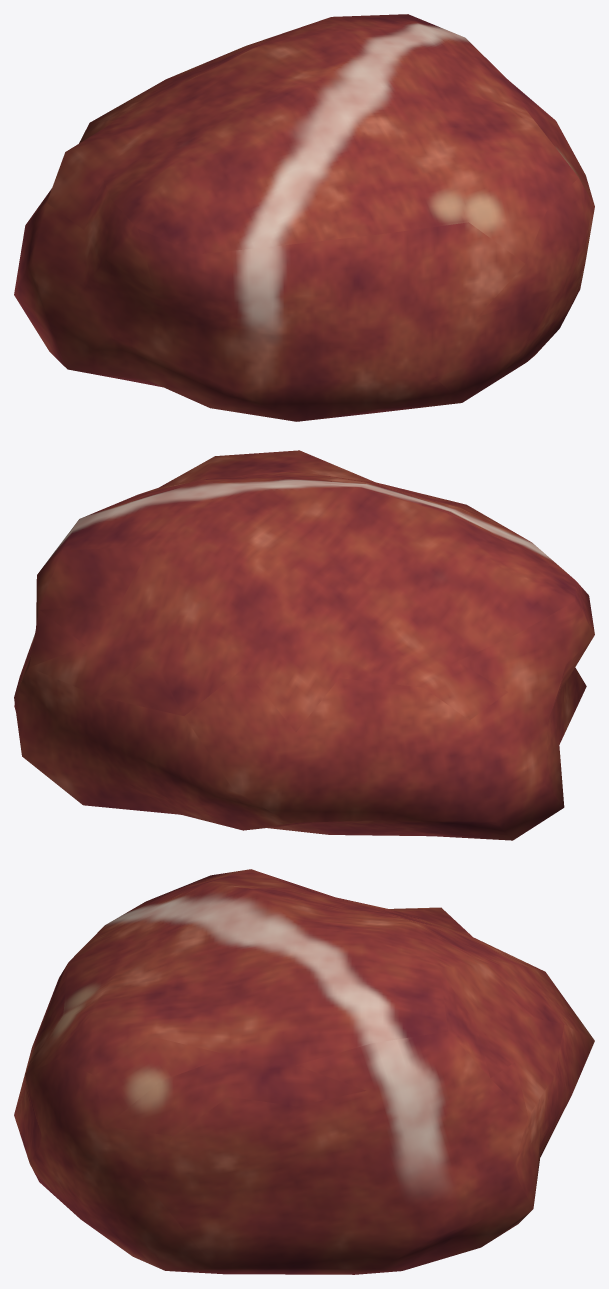
Rendered from carrion.glb.
3 views of the same model, one above another, from view 1: azimuth 30°, elevation 25°; view 2: azimuth 150°, elevation 25°; view 3: azimuth 270°, elevation 25° (orthographic). The views are drawn at different scales.
Visible parts, largest first — view 1: Carrion; view 2: Carrion; view 3: Carrion.
Part boxes in pixels (box(x1,y1,x2,y2)): Carrion: box(14, 14, 594, 421); Carrion: box(14, 450, 594, 840); Carrion: box(14, 869, 594, 1274).
Bounding box in the file's own units: 0.4958 × 0.2676 × 0.5042.
Materials: 1 (1 with a texture image).
